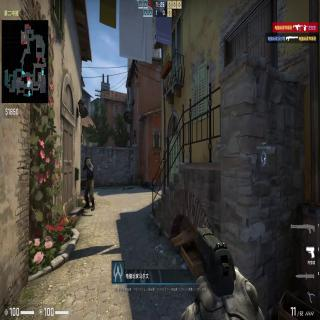T-Body: (82, 156, 96, 211)
T-Head: (86, 156, 91, 165)
